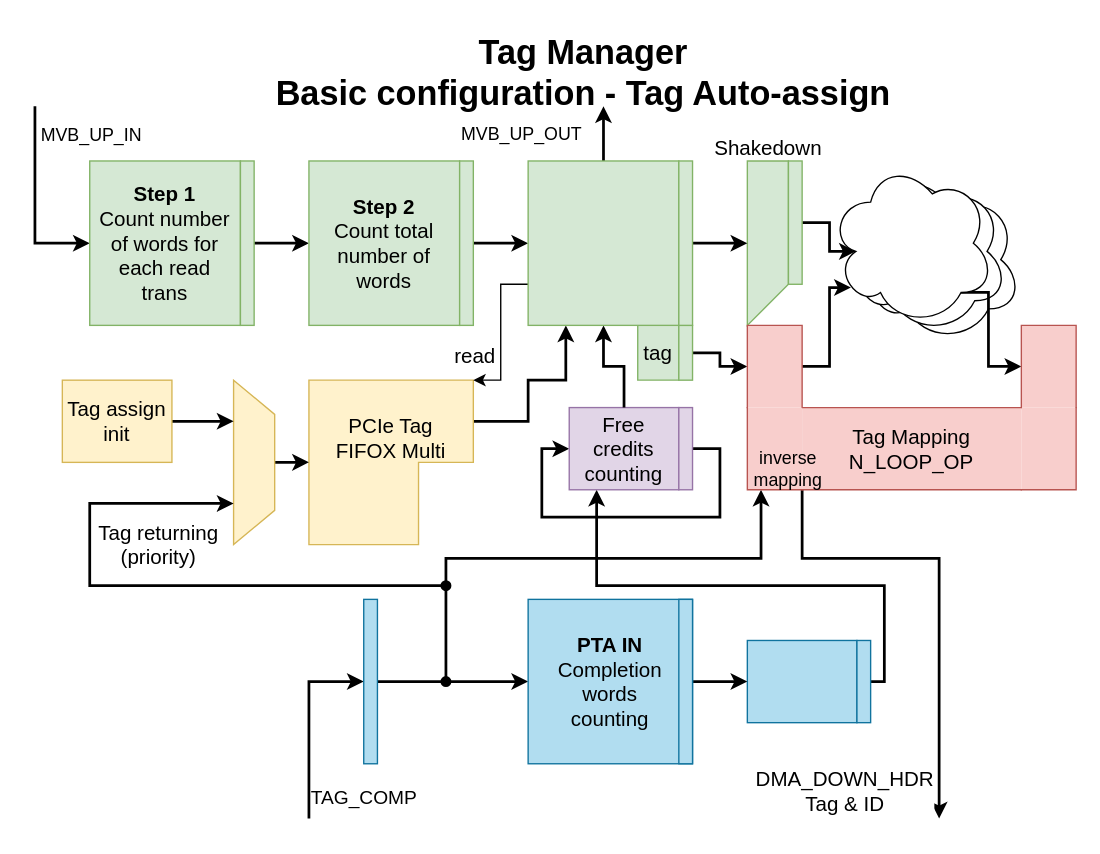
Image size: 1100x854. Some labels were removed from this diagram. The shapes that lost their labels are listed below. From the top down, each one's centre as x and y in pixels, then its label:
pixel 603 242: Step 3 Tag assign and credits checking
pixel 911 242: Operator Tag mapping
pixel 801 681: Pipe Tree Adder
